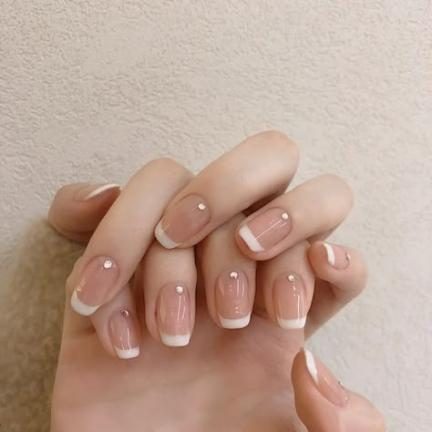Nail: (155, 283, 191, 347), (215, 270, 252, 328), (272, 272, 307, 329)
